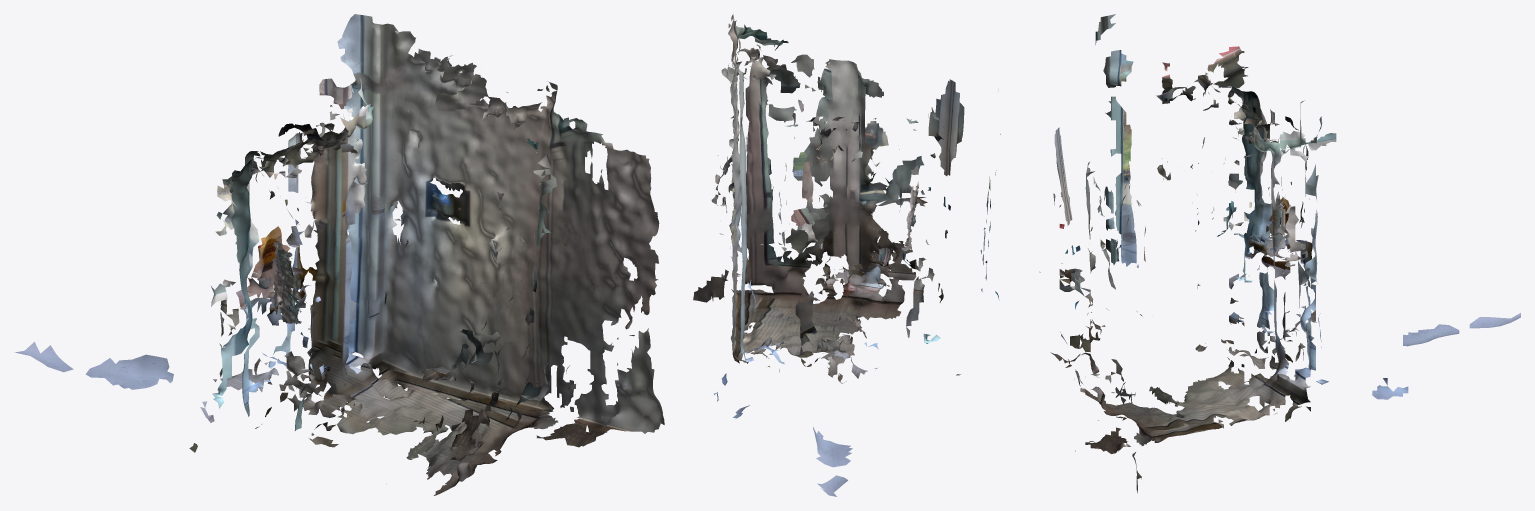
The model's file is 134667-EntranceB1Adrian-tex.glb.
The picture shows the model from 3 angles, left to right: view 1: azimuth 30°, elevation 25°; view 2: azimuth 150°, elevation 25°; view 3: azimuth 270°, elevation 25°; orthographic projection. The views are drawn at different scales.
Visible parts, largest first — view 1: Node; view 2: Node; view 3: Node.
Part boxes in pixels (bbox=[...]): Node: bbox=[14, 14, 664, 495]; Node: bbox=[693, 14, 1000, 496]; Node: bbox=[1039, 14, 1520, 493].
Bounding box in the file's own units: 2.53 × 2.4 × 3.15.
5 materials, 5 textured.
